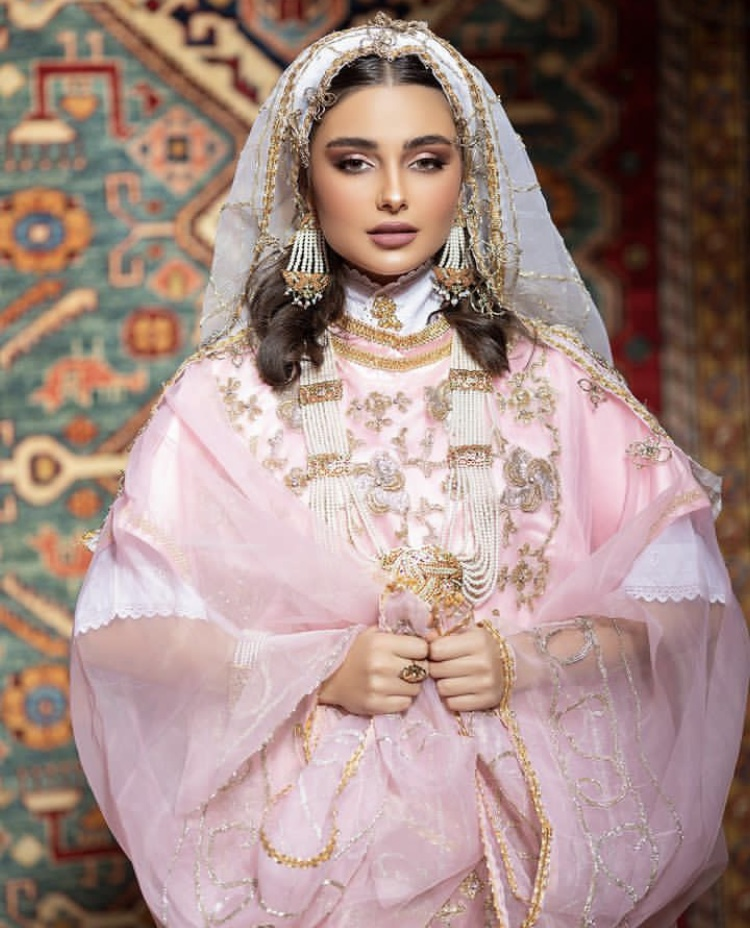Saudi_Founding_Day: (59, 7, 747, 928)
